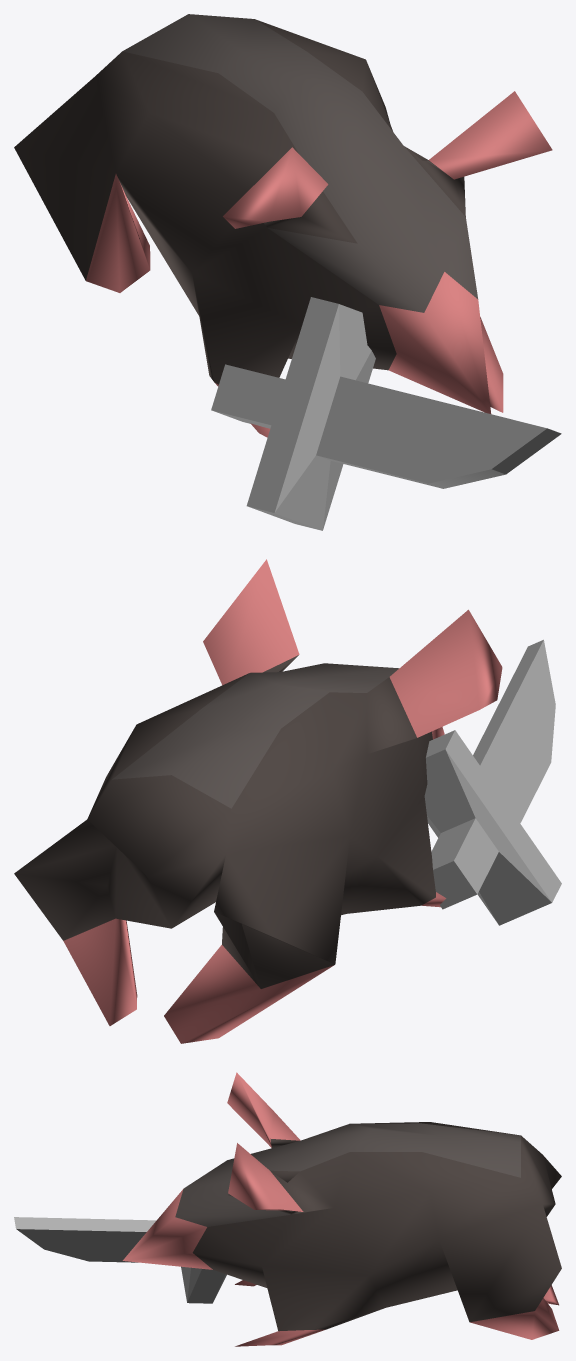
File: RatPunk_Export.fbx
3 views of the same model, one above another, from view 1: azimuth 30°, elevation 25°; view 2: azimuth 150°, elevation 25°; view 3: azimuth 270°, elevation 25° (orthographic). The views are drawn at different scales.
Visible parts, largest first — view 1: RatBase, pCube1; view 2: RatBase, pCube1; view 3: RatBase, pCube1.
Part boxes in pixels (box(x1,y1,x2,y2)): RatBase: box(14, 14, 552, 437); pCube1: box(211, 297, 561, 530); RatBase: box(14, 559, 502, 1043); pCube1: box(424, 639, 561, 925); RatBase: box(122, 1072, 561, 1346); pCube1: box(14, 1217, 226, 1303).
Size of the model in its own units: 1.52 by 1.56 by 3.26.
